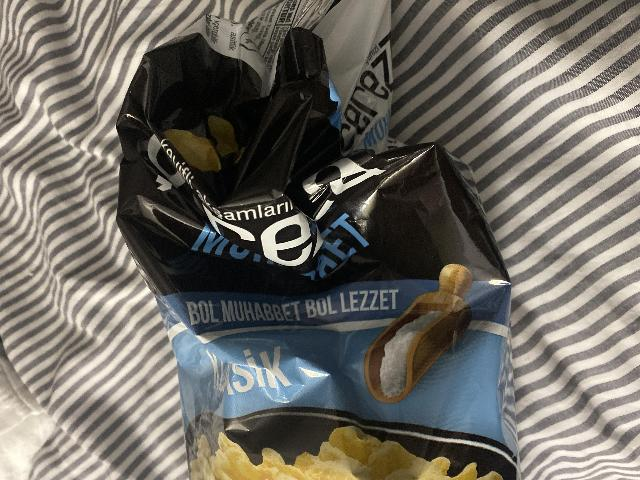Plastik: (110, 0, 529, 480)
